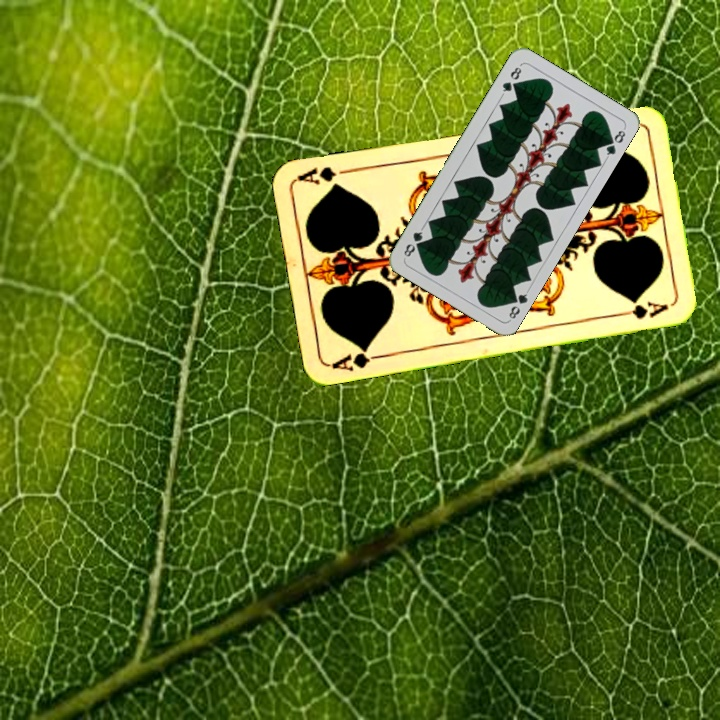G8: (505, 286, 532, 323), (498, 61, 524, 98)
GA: (328, 342, 386, 373)
